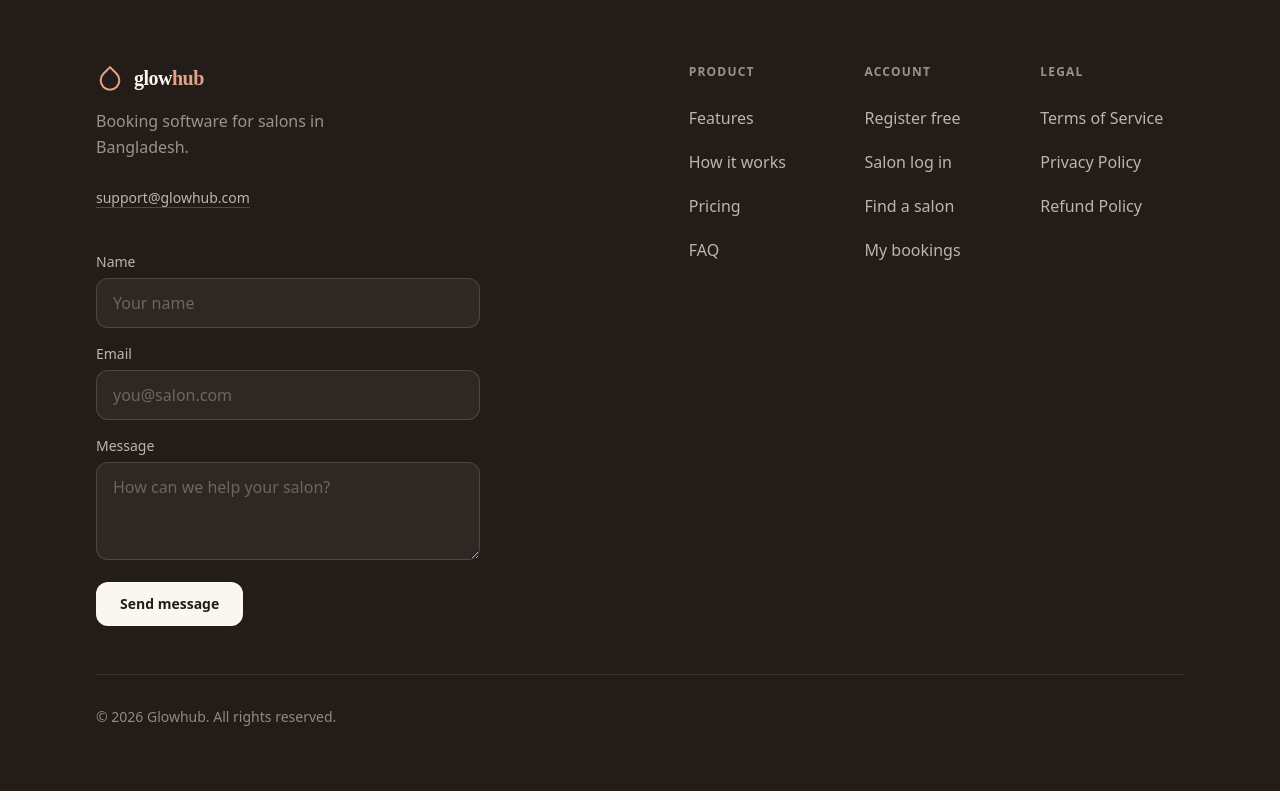
Test case: MarketingFooter › says so plainly when the visitor is rate limited
Type "Rupali" into the field with id "footer-contact-name" at coordinates (288, 303), box [96,278,480,328]
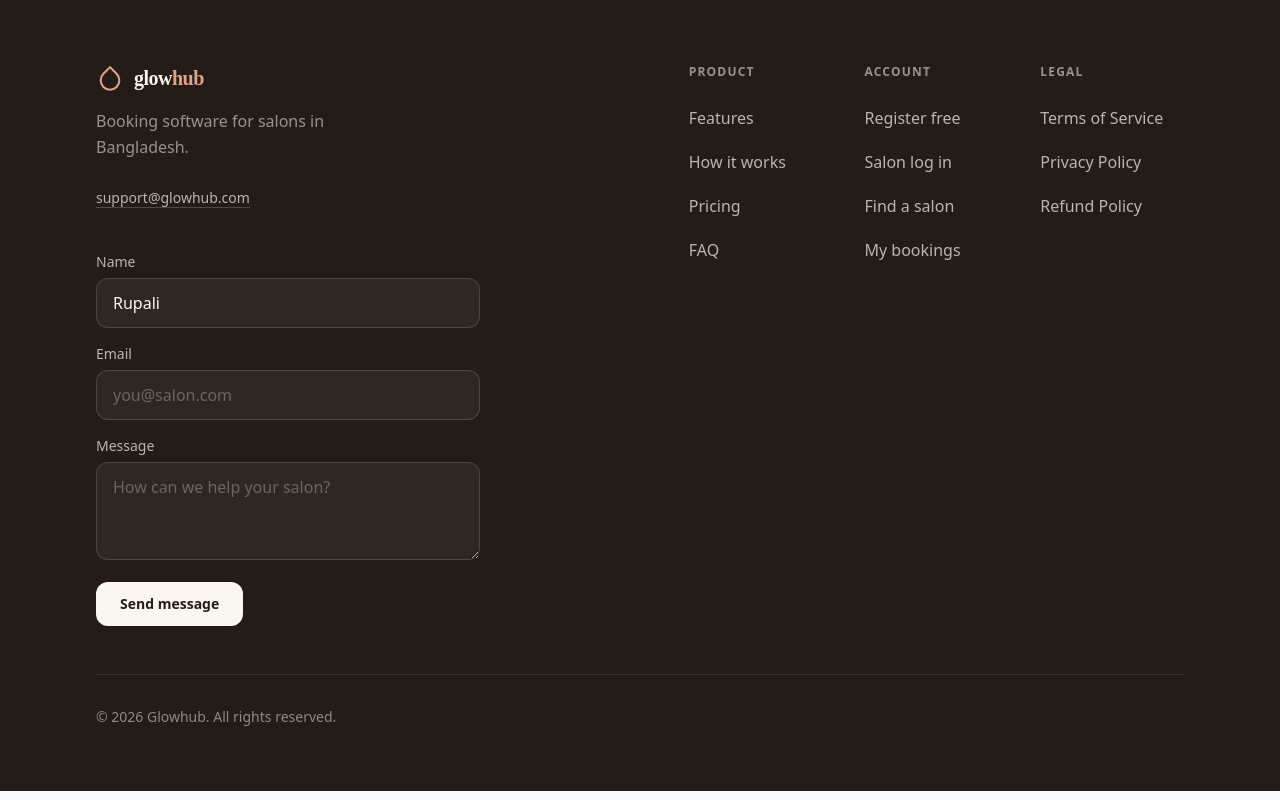
Type "rupali@salon.test" into the field with id "footer-contact-email" at coordinates (288, 395), box [96,370,480,420]
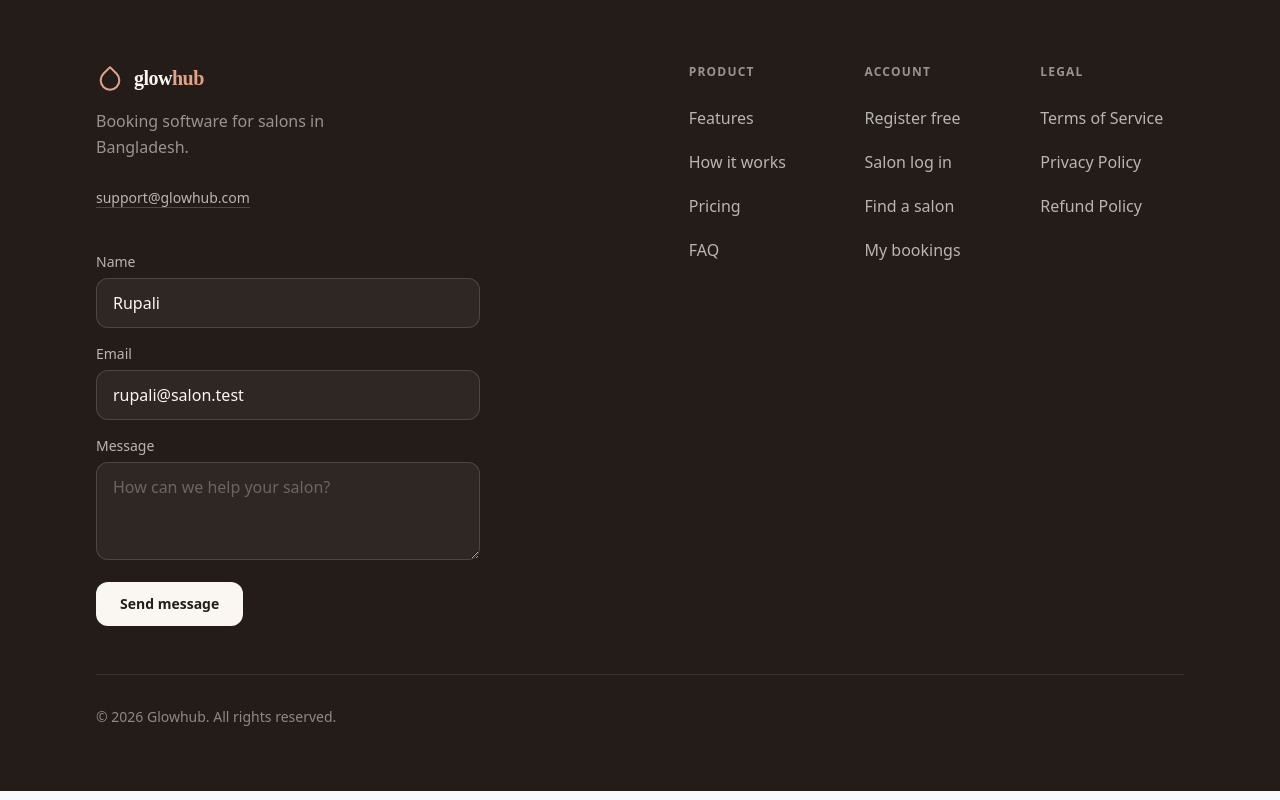
Type "Do you support two branches?" into the text box with id "footer-contact-message" at coordinates (288, 511), box [96,462,480,560]
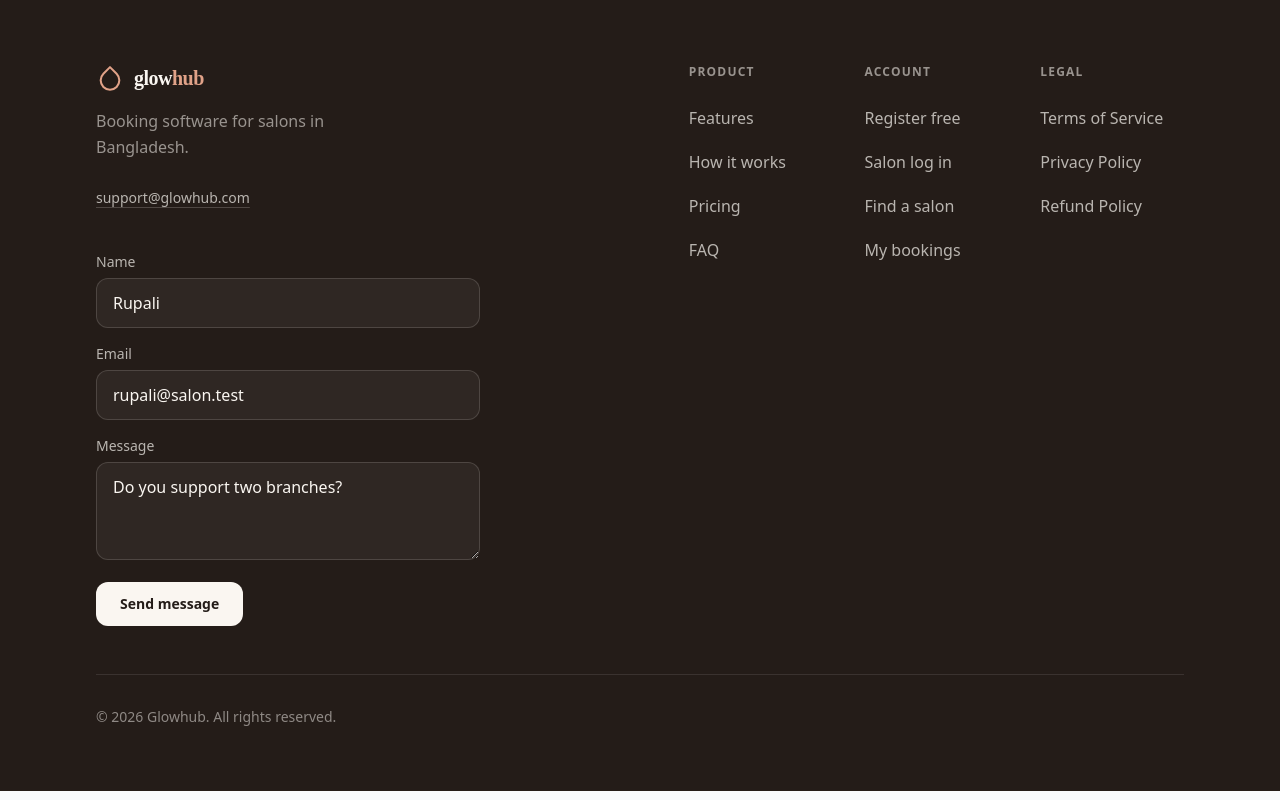
Submit the form, box [96,252,480,626]
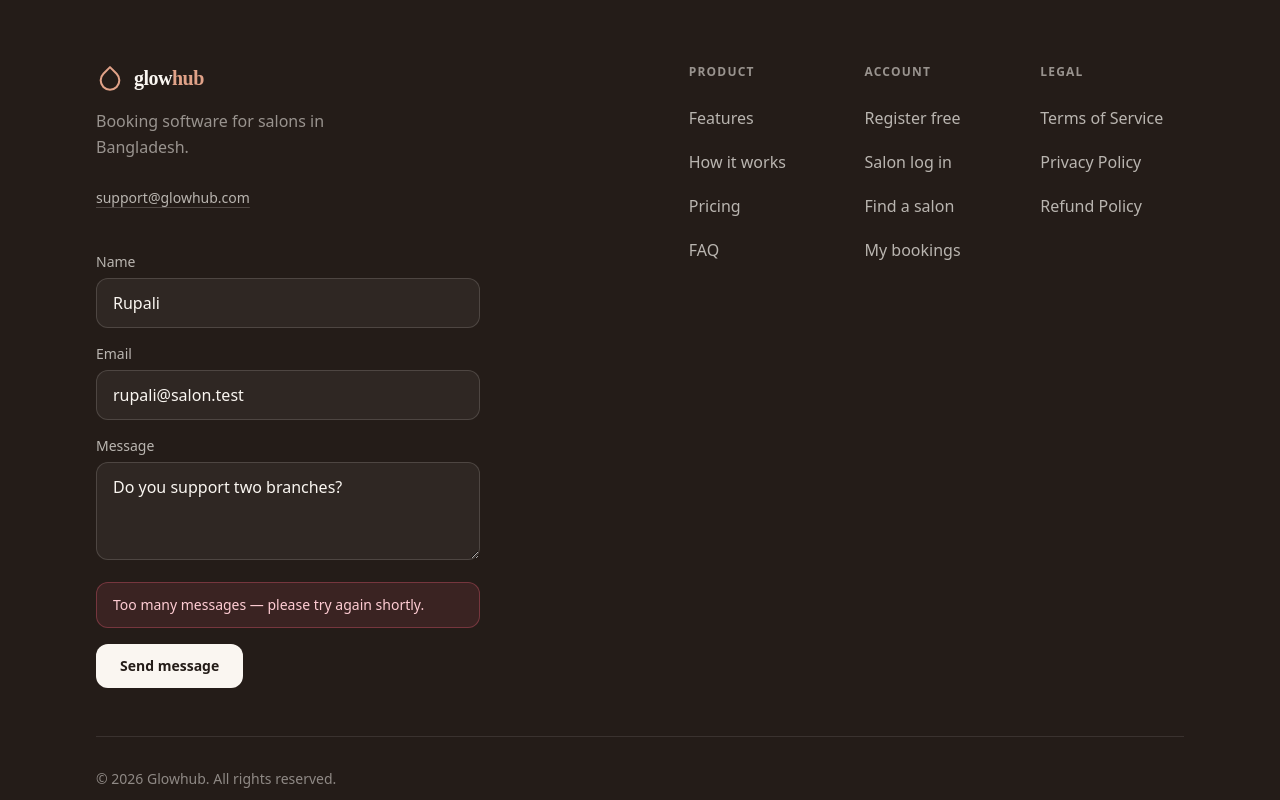
Now the text "Too many messages" is shown, box [113,595,424,614]
